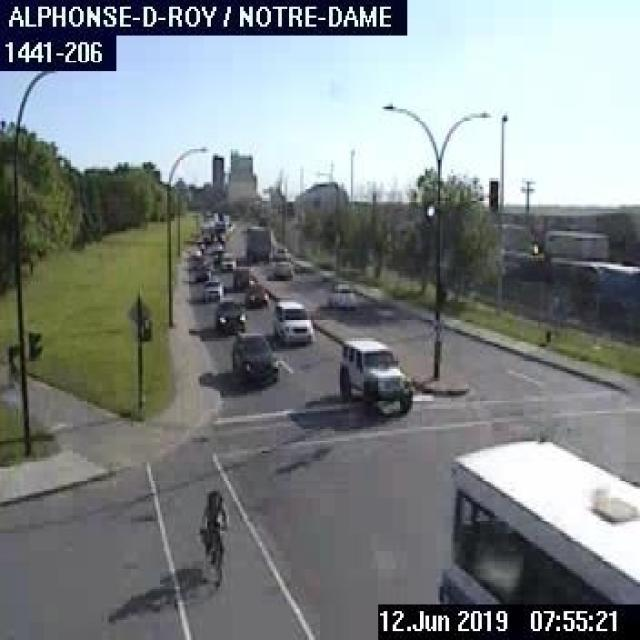Car: (338, 337, 413, 416), (230, 331, 277, 385), (271, 299, 314, 346)
Traffic-light: (27, 330, 43, 361)
